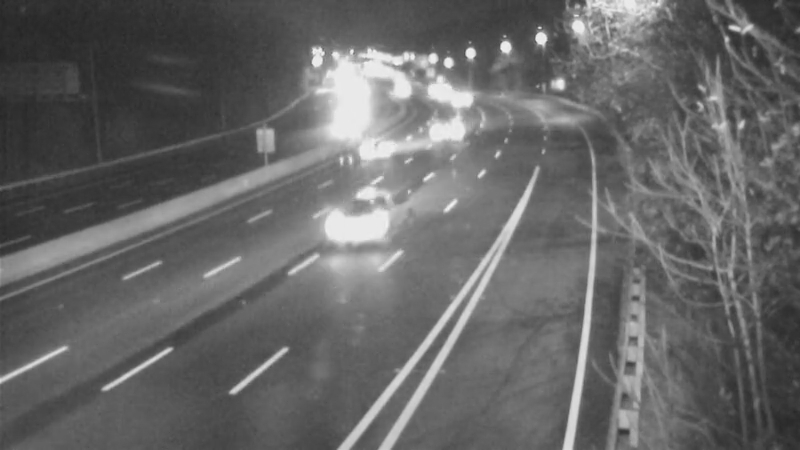vehicle: (321, 184, 401, 264), (412, 108, 462, 158), (351, 120, 401, 170)
